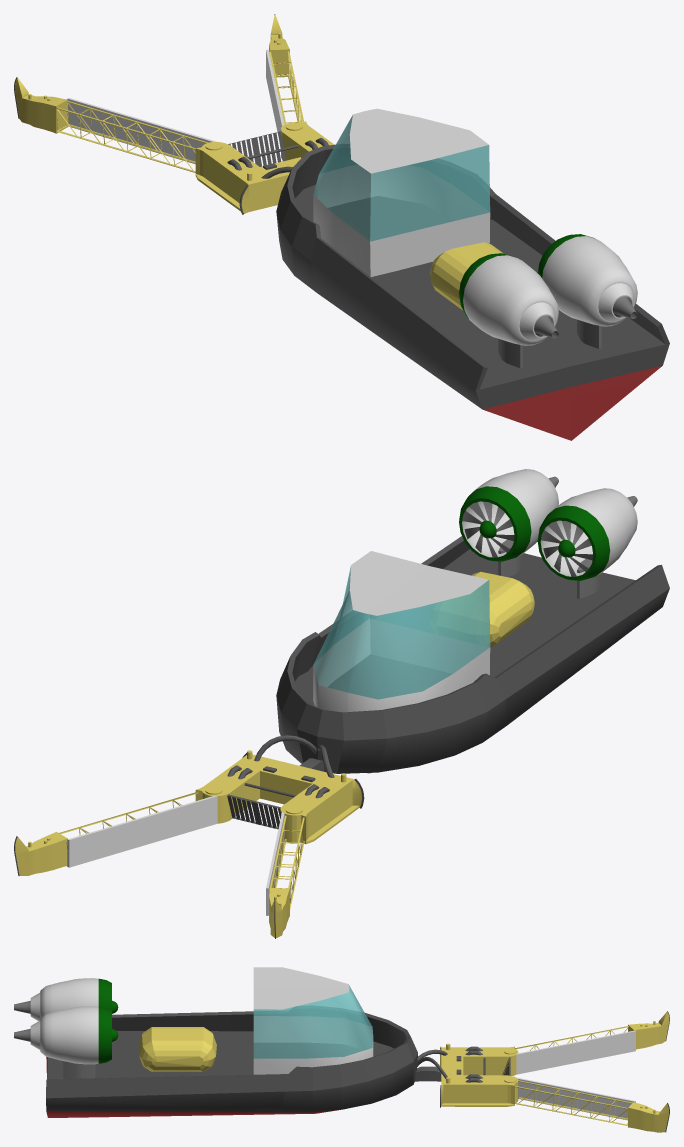
Rendered from FastestScraper.fbx.
The picture shows the model from 3 angles, top to bottom: view 1: azimuth 30°, elevation 25°; view 2: azimuth 150°, elevation 25°; view 3: azimuth 270°, elevation 25°; orthographic projection. The views are drawn at different scales.
Parts seen in each view (by area): view 1: polySurface204, polySurface207; view 2: polySurface204, polySurface207; view 3: polySurface204, polySurface207.
Boxes of the visible parts, <box> form: polySurface204: <box>14,14,669,440</box>; polySurface207: <box>459,234,637,368</box>; polySurface204: <box>14,536,669,938</box>; polySurface207: <box>459,469,637,598</box>; polySurface204: <box>46,967,669,1132</box>; polySurface207: <box>14,978,118,1078</box>.
Bounding box in the file's own units: 44.06 × 28.74 × 132.
